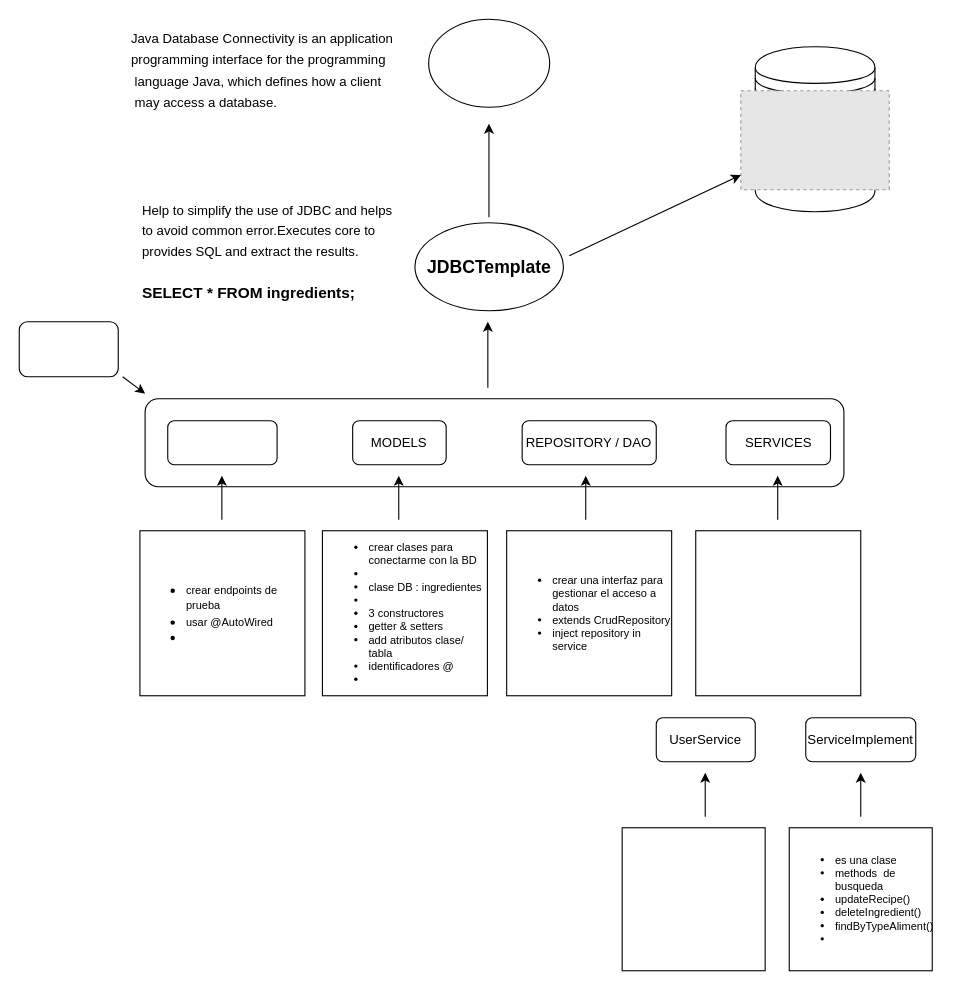
Some shapes in this 953 by 990 pixel diagram are drawn without their labels. Grey dashed boxes stand in for pictures. The shapes that lost their labels are listed below. From the top down, each one's centre as x and y in pixels, then its label:
pixel 489 62: JDBC
pixel 68 349: POSTMAN
pixel 222 442: CONTROLLER
pixel 778 613: @Service call class Repository implement USERSERVICE
pixel 693 899: implements ServiceImplements creamos un Repository
